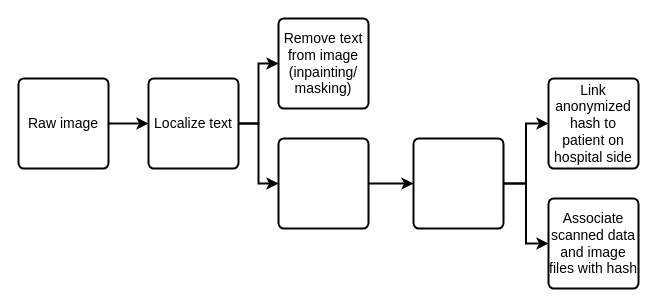
Image size: 656x306. Some labels were removed from this diagram. Each missing label, with the centre of its shape:
"Hash names and DOBs returned by OCR" goes at point 458,183.
"OCR text" goes at point 323,183.
